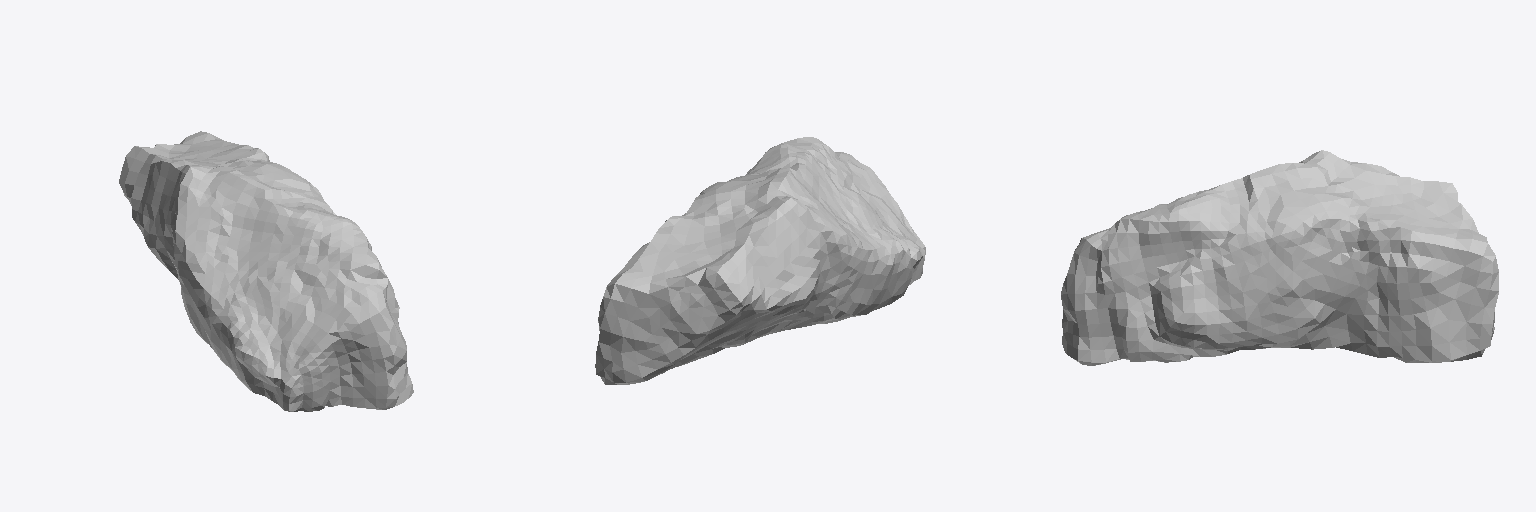
Rendered from stone1.obj.
3 views of the same model, side by side, from view 1: azimuth 30°, elevation 25°; view 2: azimuth 150°, elevation 25°; view 3: azimuth 270°, elevation 25° (orthographic).
Parts seen in each view (by area): view 1: Stone_01_Base:polySurface1_group; view 2: Stone_01_Base:polySurface1_group; view 3: Stone_01_Base:polySurface1_group.
Part boxes in pixels (x1,y1,x2,y2): Stone_01_Base:polySurface1_group: (119,131,413,411); Stone_01_Base:polySurface1_group: (595,137,925,384); Stone_01_Base:polySurface1_group: (1061,150,1498,365).
Size of the model in its own units: 5.34 by 5.08 by 11.95.